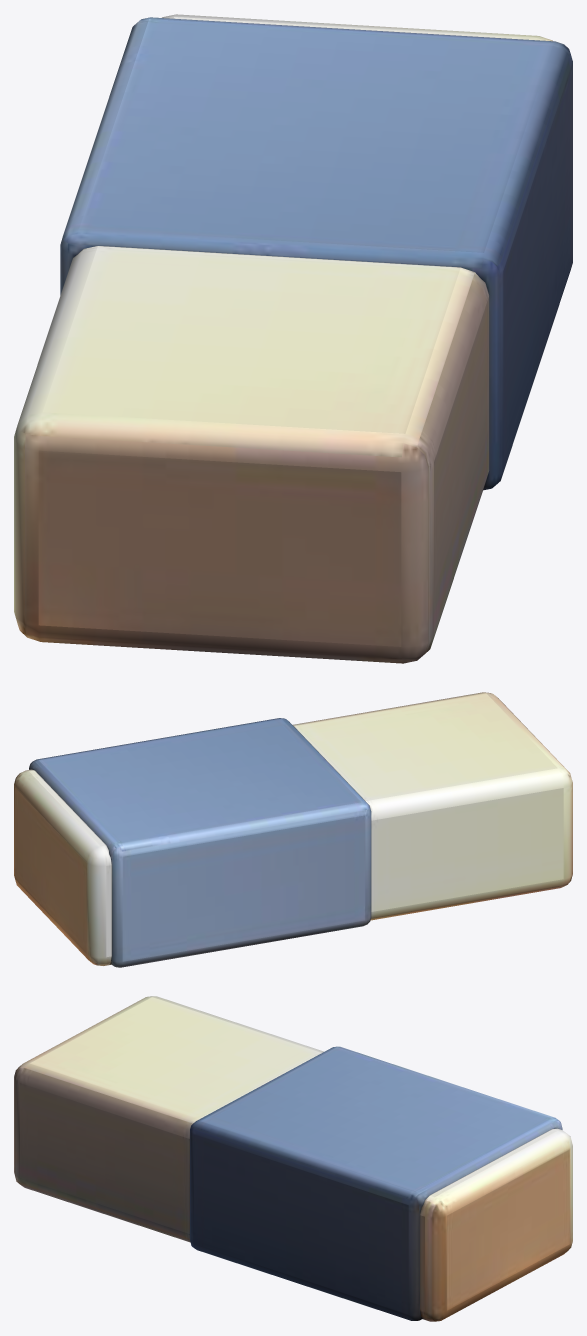
The model's file is eraser.glb.
3 views of the same model, one above another, from view 1: azimuth 30°, elevation 25°; view 2: azimuth 150°, elevation 25°; view 3: azimuth 270°, elevation 25° (orthographic). The views are drawn at different scales.
Parts seen in each view (by area): view 1: er_block, er_sleeve; view 2: er_sleeve, er_block; view 3: er_block, er_sleeve.
Boxes of the visible parts, x1,y1,x2,y2 form: er_block: (14, 14, 552, 663); er_sleeve: (60, 17, 572, 490); er_sleeve: (29, 718, 371, 967); er_block: (14, 692, 572, 965); er_block: (14, 996, 572, 1321); er_sleeve: (190, 1046, 562, 1320).
Size of the model in its own units: 0.0481 by 0.0135 by 0.0533.
2 materials, 2 textured.
